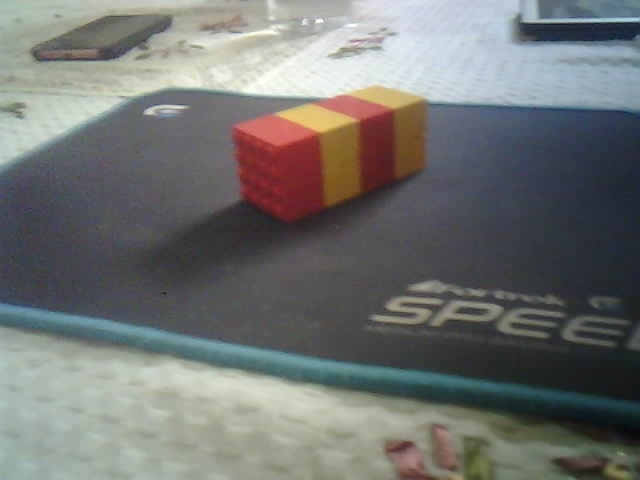lego: (230, 85, 427, 223)
